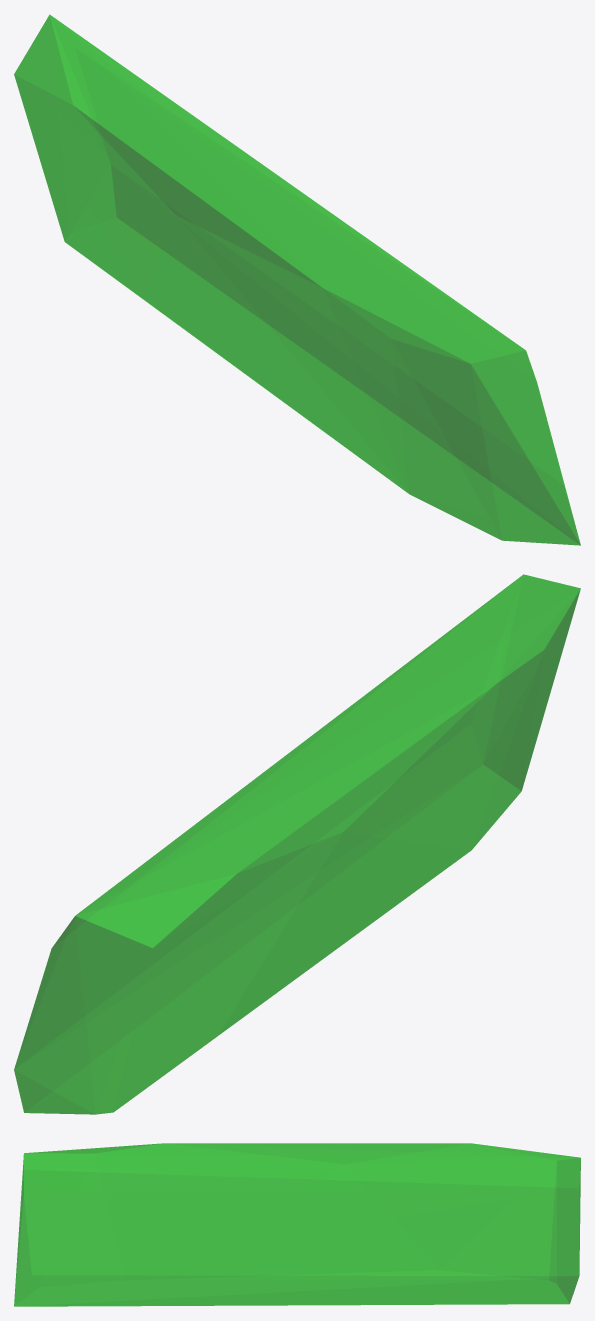
3 renders of one model, top to bottom at view 1: azimuth 30°, elevation 25°; view 2: azimuth 150°, elevation 25°; view 3: azimuth 270°, elevation 25°, orthographic. The views are drawn at different scales.
Visible parts, largest first — view 1: Shape_IndexedFaceSet.034_Shape_IndexedFaceSet.9006; view 2: Shape_IndexedFaceSet.034_Shape_IndexedFaceSet.9006; view 3: Shape_IndexedFaceSet.034_Shape_IndexedFaceSet.9006.
Part boxes in pixels (left/top/right/bottom): Shape_IndexedFaceSet.034_Shape_IndexedFaceSet.9006: left=14, top=14, right=580, bottom=545; Shape_IndexedFaceSet.034_Shape_IndexedFaceSet.9006: left=14, top=574, right=580, bottom=1114; Shape_IndexedFaceSet.034_Shape_IndexedFaceSet.9006: left=14, top=1143, right=580, bottom=1306.
Size of the model in its own units: 0.0761 by 0.1132 by 0.4503.
